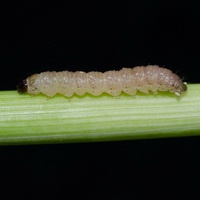insect: (25, 65, 186, 96)
